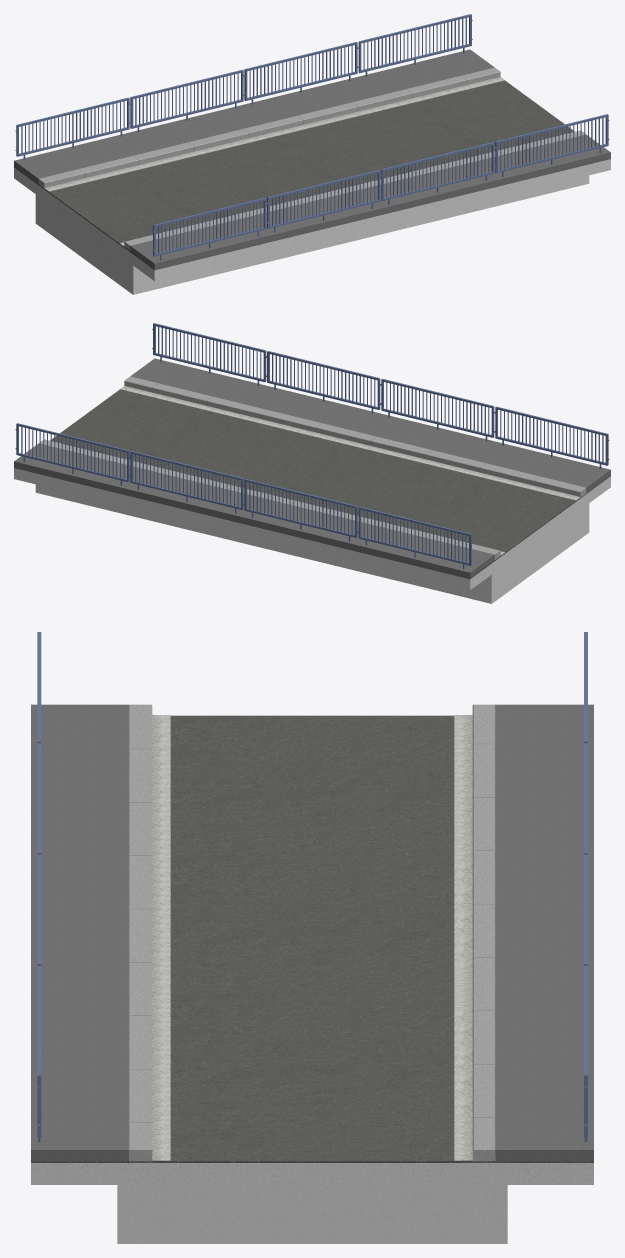
The model's file is sweethome3d-scopia-bridge-1-lane.glb.
3 views of the same model, one above another, from view 1: azimuth 30°, elevation 25°; view 2: azimuth 150°, elevation 25°; view 3: azimuth 270°, elevation 25° (orthographic). The views are drawn at different scales.
Parts seen in each view (by area): view 1: pont1Voie_Plane.041, balustrade1Voie_Plane.046; view 2: pont1Voie_Plane.041, balustrade1Voie_Plane.046; view 3: pont1Voie_Plane.041, balustrade1Voie_Plane.046.
Boxes of the visible parts, x1,y1,x2,y2 form: pont1Voie_Plane.041: [14, 49, 610, 294]; balustrade1Voie_Plane.046: [15, 14, 609, 260]; pont1Voie_Plane.041: [14, 358, 610, 603]; balustrade1Voie_Plane.046: [15, 323, 609, 569]; pont1Voie_Plane.041: [31, 704, 593, 1243]; balustrade1Voie_Plane.046: [37, 632, 587, 1142].
Bounding box in the file's own units: 1300 × 228 × 695.
Materials: 12 (10 with a texture image).
